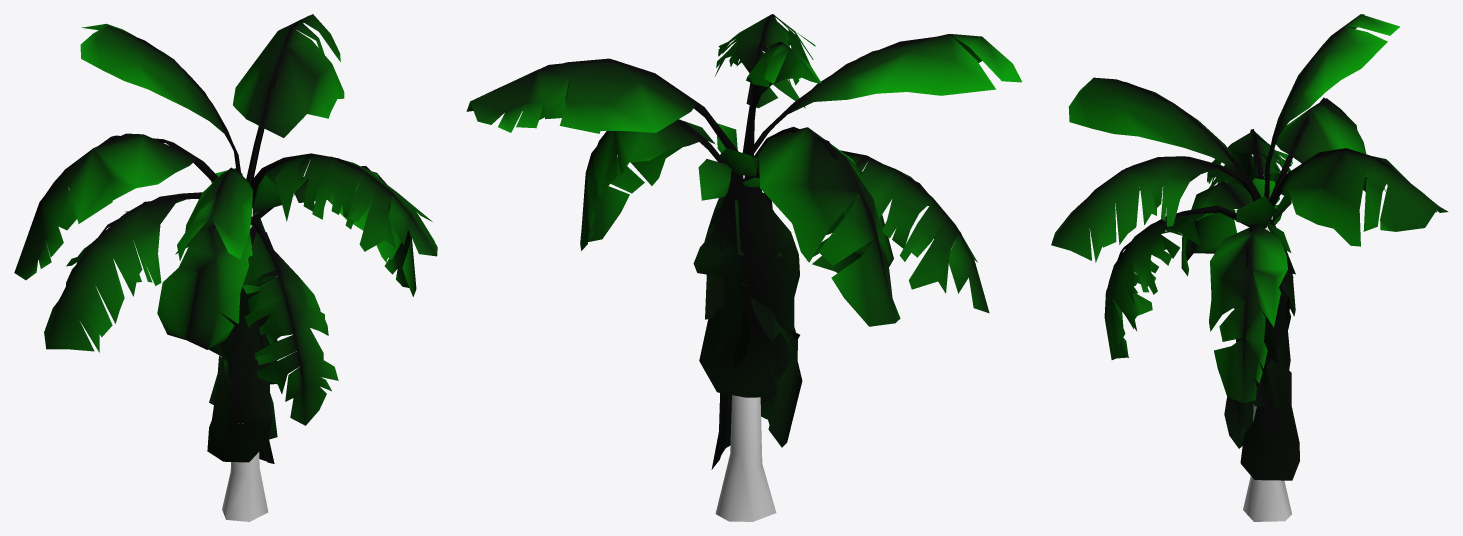
File: BananaTree02_afsTREE_xlprl05_xlod02.fbx
3 views of the same model, side by side, from view 1: azimuth 30°, elevation 25°; view 2: azimuth 150°, elevation 25°; view 3: azimuth 270°, elevation 25° (orthographic). The views are drawn at different scales.
Parts seen in each view (by area): view 1: DyingBranch_xw03_xt05_xlp01_xp05, DyingBranch_xw03_xt05_xlp02_xp10, BananaLeaf_xw05_xt06_xlp04_xp02, BananaLeaf_xw09_xt10_xlp08_xp10, DyingBranch_xw07_xt10_xlp06_xp03, DeadBananaLeaf_xw01_xt03_xlp01_xp01, DeadBananaLeaf_xw00_xt00_xlp00.009, BananaLeaf_xw09_xt10_xlp09_xp01, BananaLeaf_xw08_xt11_xlp07_xp06, trunk_BananaTree01_xw03_xt02, BananaLeaf_xw04_xt07_xlp03_xp08, DeadBananaLeaf_xw01_xt01_xlp01_xp07.002; view 2: DeadBananaLeaf_xw00_xt00_xlp00.010, BananaLeaf_xw05_xt06_xlp04_xp02, BananaLeaf_xw09_xt10_xlp08_xp10, BananaLeaf_xw08_xt11_xlp07_xp06, DyingBranch_xw03_xt05_xlp01_xp05, BananaLeaf_xw04_xt07_xlp03_xp08, trunk_BananaTree01_xw03_xt02, DyingBranch_xw07_xt10_xlp06_xp03, DeadBananaLeaf_xw00_xt00_xlp00.009, BananaLeaf_xw09_xt10_xlp09_xp01, DeadBananaLeaf_xw00_xt00_xlp00.007, DeadBananaLeaf_xw01_xt01_xlp01_xp07.003 (+2 smaller); view 3: BananaLeaf_xw04_xt07_xlp03_xp08, BananaLeaf_xw09_xt10_xlp08_xp10, DyingBranch_xw07_xt10_xlp06_xp03, BananaLeaf_xw08_xt11_xlp07_xp06, DyingBranch_xw03_xt05_xlp02_xp10, BananaLeaf_xw09_xt10_xlp09_xp01, DeadBananaLeaf_xw00_xt00_xlp00.011, BananaLeaf_xw05_xt06_xlp04_xp02, DeadBananaLeaf_xw01_xt03_xlp01_xp01, DyingBranch_xw03_xt05_xlp01_xp05, trunk_BananaTree01_xw03_xt02, DeadBananaLeaf_xw00_xt00_xlp00.010 (+4 smaller).
Part boxes in pixels (x1=…): DyingBranch_xw03_xt05_xlp01_xp05: x1=44, y1=192, x2=202, y2=352; DyingBranch_xw03_xt05_xlp02_xp10: x1=242, y1=216, x2=338, y2=425; BananaLeaf_xw05_xt06_xlp04_xp02: x1=14, y1=133, x2=218, y2=280; BananaLeaf_xw09_xt10_xlp08_xp10: x1=233, y1=14, x2=344, y2=183; DyingBranch_xw07_xt10_xlp06_xp03: x1=250, y1=153, x2=437, y2=256; DeadBananaLeaf_xw01_xt03_xlp01_xp01: x1=157, y1=217, x2=252, y2=349; DeadBananaLeaf_xw00_xt00_xlp00.009: x1=207, y1=317, x2=272, y2=462; BananaLeaf_xw09_xt10_xlp09_xp01: x1=80, y1=23, x2=241, y2=173; BananaLeaf_xw08_xt11_xlp07_xp06: x1=177, y1=167, x2=252, y2=260; trunk_BananaTree01_xw03_xt02: x1=222, y1=208, x2=268, y2=521; BananaLeaf_xw04_xt07_xlp03_xp08: x1=253, y1=166, x2=416, y2=296; DeadBananaLeaf_xw01_xt01_xlp01_xp07.002: x1=253, y1=175, x2=281, y2=212; DeadBananaLeaf_xw00_xt00_xlp00.010: x1=693, y1=166, x2=799, y2=397; BananaLeaf_xw05_xt06_xlp04_xp02: x1=754, y1=126, x2=900, y2=326; BananaLeaf_xw09_xt10_xlp08_xp10: x1=466, y1=58, x2=738, y2=151; BananaLeaf_xw08_xt11_xlp07_xp06: x1=751, y1=34, x2=1021, y2=155; DyingBranch_xw03_xt05_xlp01_xp05: x1=755, y1=150, x2=989, y2=313; BananaLeaf_xw04_xt07_xlp03_xp08: x1=580, y1=119, x2=726, y2=250; trunk_BananaTree01_xw03_xt02: x1=715, y1=175, x2=776, y2=521; DyingBranch_xw07_xt10_xlp06_xp03: x1=715, y1=14, x2=815, y2=156; DeadBananaLeaf_xw00_xt00_xlp00.009: x1=750, y1=295, x2=802, y2=447; BananaLeaf_xw09_xt10_xlp09_xp01: x1=746, y1=42, x2=821, y2=155; DeadBananaLeaf_xw00_xt00_xlp00.007: x1=704, y1=193, x2=799, y2=341; DeadBananaLeaf_xw01_xt01_xlp01_xp07.003: x1=698, y1=159, x2=731, y2=200; BananaLeaf_xw04_xt07_xlp03_xp08: x1=1209, y1=223, x2=1287, y2=402; BananaLeaf_xw09_xt10_xlp08_xp10: x1=1270, y1=148, x2=1448, y2=246; DyingBranch_xw07_xt10_xlp06_xp03: x1=1051, y1=156, x2=1269, y2=262; BananaLeaf_xw08_xt11_xlp07_xp06: x1=1068, y1=77, x2=1261, y2=198; DyingBranch_xw03_xt05_xlp02_xp10: x1=1104, y1=205, x2=1250, y2=359; BananaLeaf_xw09_xt10_xlp09_xp01: x1=1264, y1=14, x2=1399, y2=200; DeadBananaLeaf_xw00_xt00_xlp00.011: x1=1240, y1=364, x2=1299, y2=480; BananaLeaf_xw05_xt06_xlp04_xp02: x1=1269, y1=97, x2=1367, y2=201; DeadBananaLeaf_xw01_xt03_xlp01_xp01: x1=1181, y1=182, x2=1253, y2=276; DyingBranch_xw03_xt05_xlp01_xp05: x1=1207, y1=129, x2=1292, y2=195; trunk_BananaTree01_xw03_xt02: x1=1243, y1=216, x2=1291, y2=521; DeadBananaLeaf_xw00_xt00_xlp00.010: x1=1234, y1=219, x2=1295, y2=412.
Size of the model in its own units: 3.36 by 3.17 by 4.02.
